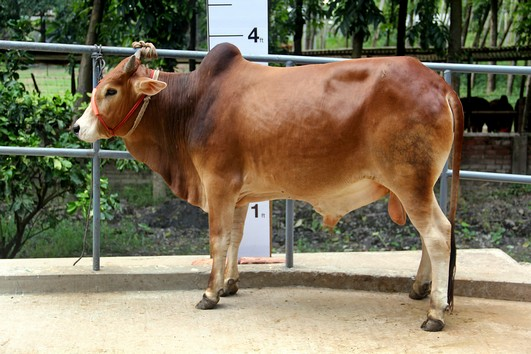cow: (67, 36, 469, 330)
